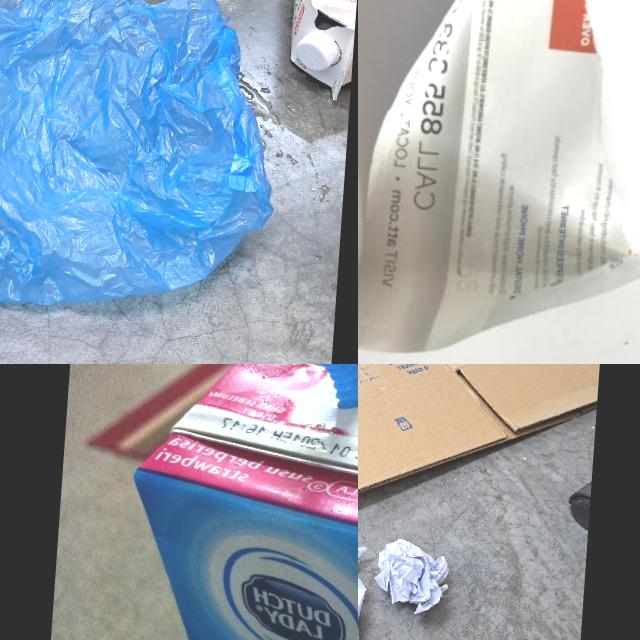caixinha: (110, 364, 358, 640), (286, 0, 358, 99)
papel: (358, 0, 640, 364), (372, 536, 452, 616)
papelão: (358, 364, 610, 519)
sacola plástica: (0, 0, 286, 324)
tampa plástica: (295, 32, 338, 71)
